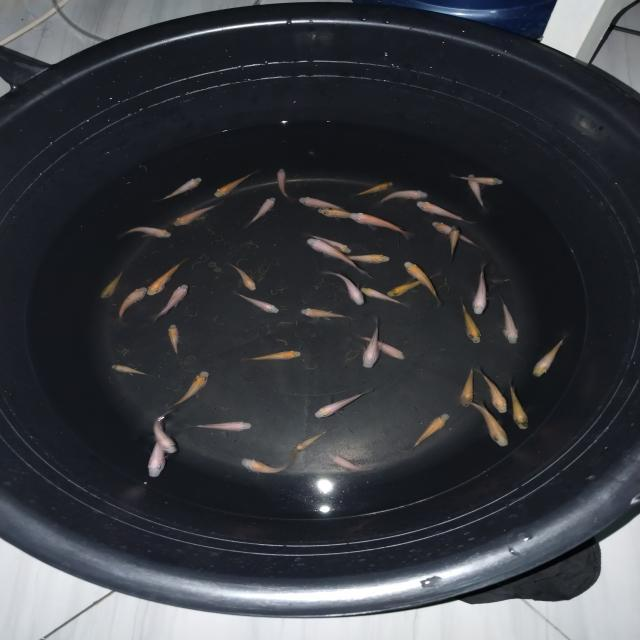nila: (300, 239, 369, 277), (307, 389, 375, 422), (466, 400, 511, 448), (431, 219, 488, 253), (350, 212, 412, 242), (403, 258, 445, 302), (410, 198, 475, 226), (408, 411, 452, 452), (353, 319, 388, 369), (476, 367, 512, 414), (168, 368, 210, 408), (146, 256, 190, 294), (154, 170, 203, 204), (530, 335, 568, 378), (321, 270, 366, 306), (384, 270, 440, 298), (152, 282, 192, 320), (151, 406, 180, 456), (211, 168, 258, 198), (298, 195, 358, 218), (168, 202, 220, 227), (361, 334, 408, 361), (116, 285, 152, 320), (95, 270, 132, 302), (470, 266, 494, 315), (460, 299, 484, 347), (306, 232, 356, 254), (359, 286, 409, 308), (236, 292, 281, 316), (500, 296, 522, 345), (508, 380, 530, 429), (146, 428, 167, 479), (240, 458, 296, 477), (322, 253, 394, 267), (246, 196, 277, 228), (296, 308, 350, 326), (466, 171, 492, 208), (374, 190, 432, 206), (458, 364, 479, 408), (347, 180, 396, 198), (229, 261, 259, 290), (113, 226, 175, 240), (291, 432, 329, 454), (458, 172, 508, 188), (326, 454, 373, 471), (315, 206, 363, 222), (246, 351, 300, 364), (190, 422, 254, 432), (108, 362, 150, 377), (446, 223, 461, 260), (166, 322, 180, 356), (278, 166, 290, 204)
